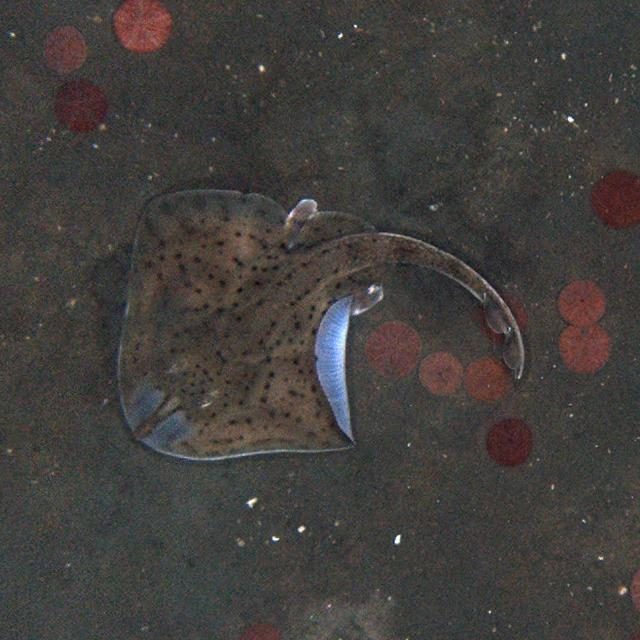skate: (118, 188, 536, 463)
